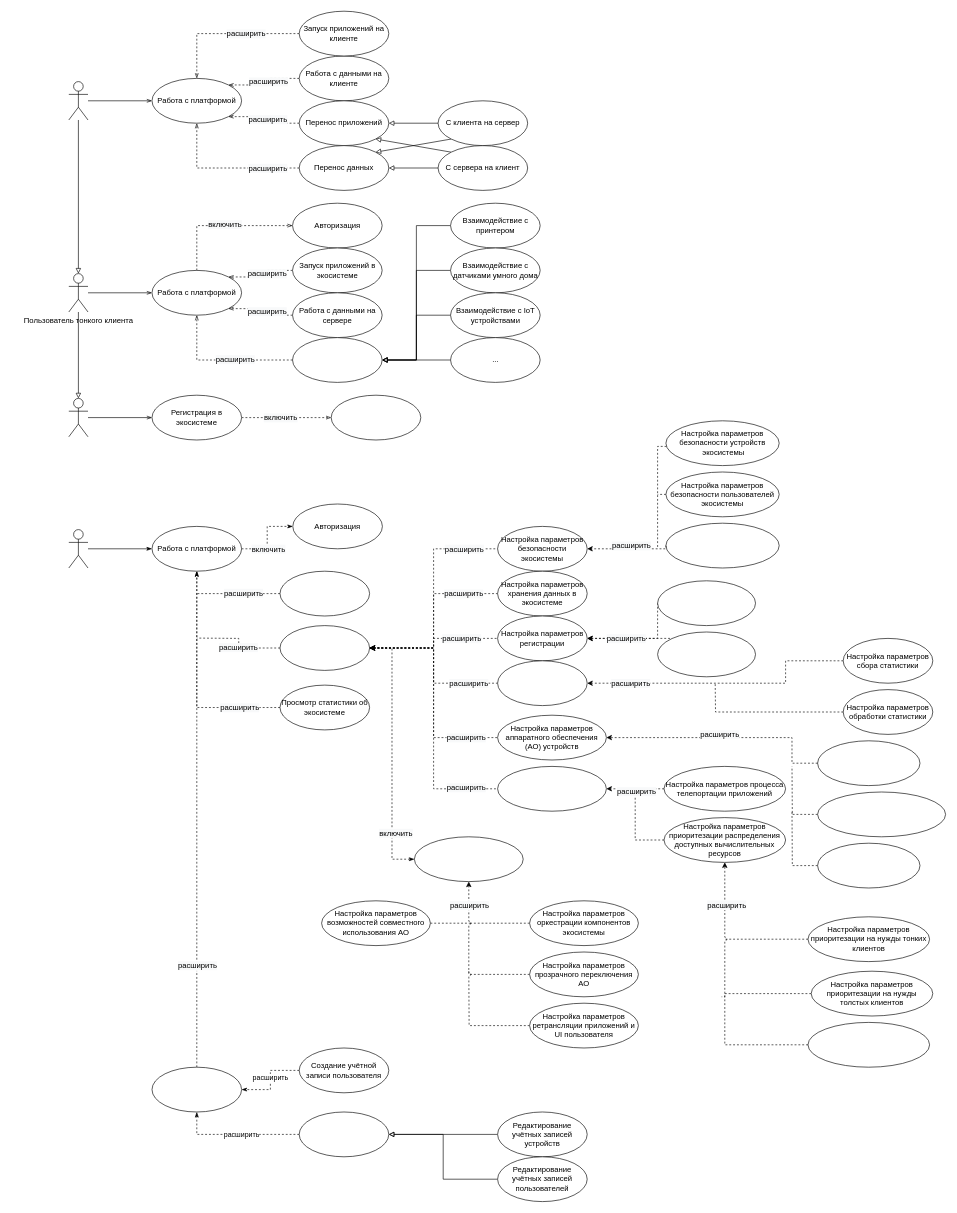
This 957x1213 diagram has some shape labels left out. The centre of each missing label's shape, as x and y in pixels:
Администратор экосистемы: (78,548)
Взаимодействие с доступными устройствами инфраструктуры: (337,359)
Конфигурация процесса переключения на резервное АО: (868,865)
Настройка общих параметров безопасности экосистемы: (722,545)
Настройка параметров предпочтения драйверов устройств: (868,763)
Настройка параметров приоритезации на нужды пользователей: (868,1044)
Настройка параметров распределения вычислительных ресурсов: (551,788)
Настройка параметров регистрации пользователей: (706,654)
Настройка параметров регистрации устройств: (706,603)
Настройка параметров статистики: (542,683)
Настройка параметров управления пользовательской средой: (468,859)
Настройка параметров экосистемы: (324,647)
Незарегистрированный пользователь: (78,417)
Получение состояния экосистемы: (324,593)
Пользователь толстого клиента: (78,100)
Редактирование учётных записей: (344,1134)
Создание учётной записи: (376,417)
Управление конфигурацией драйверов: (881,814)
Управление учётными записями: (196,1089)
